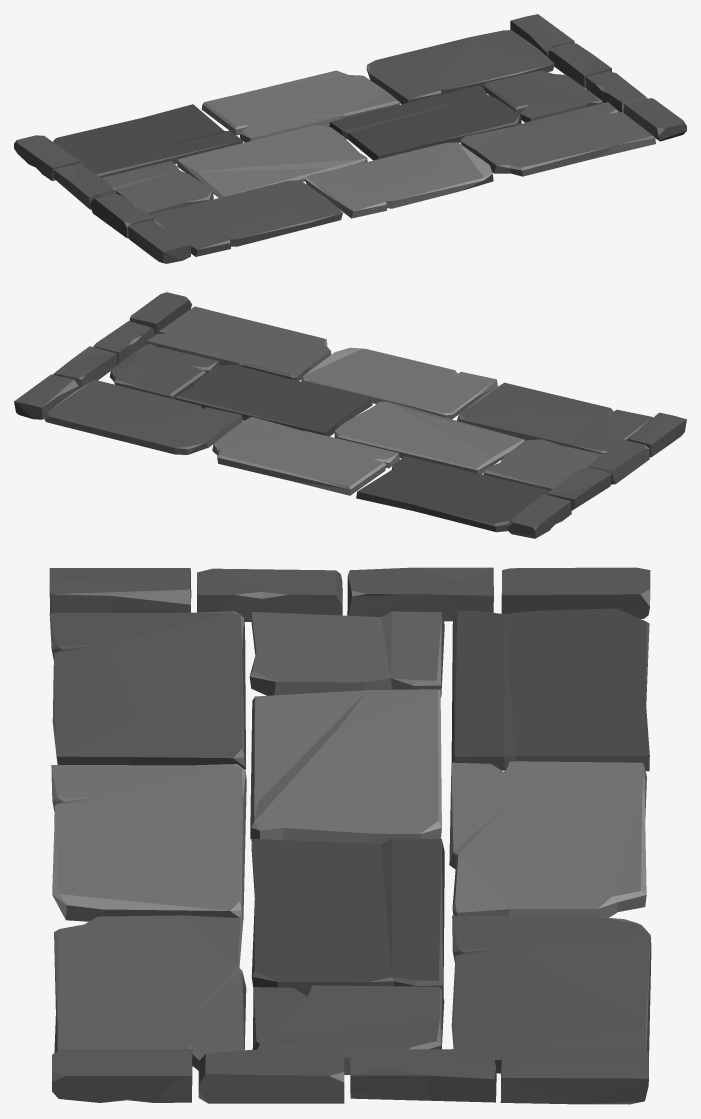
Rendered from StonePath_01.glb.
3 renders of one model, top to bottom at view 1: azimuth 30°, elevation 25°; view 2: azimuth 150°, elevation 25°; view 3: azimuth 270°, elevation 25°, orthographic. The views are drawn at different scales.
Visible parts, largest first — view 1: StonePath_01; view 2: StonePath_01; view 3: StonePath_01.
Boxes of the visible parts, <box> form: StonePath_01: <box>14,14,686,263</box>; StonePath_01: <box>14,292,686,538</box>; StonePath_01: <box>49,567,651,1104</box>.
Size of what is drawn, in the model's own units: 1.99 by 0.0561 by 0.9929.
1 material, 1 textured.
